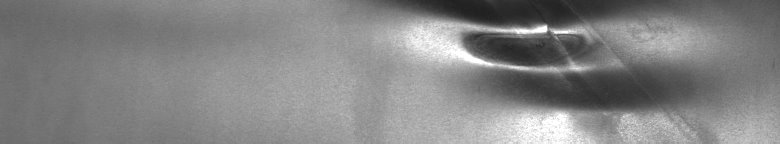ke: (380, 4, 700, 136)
